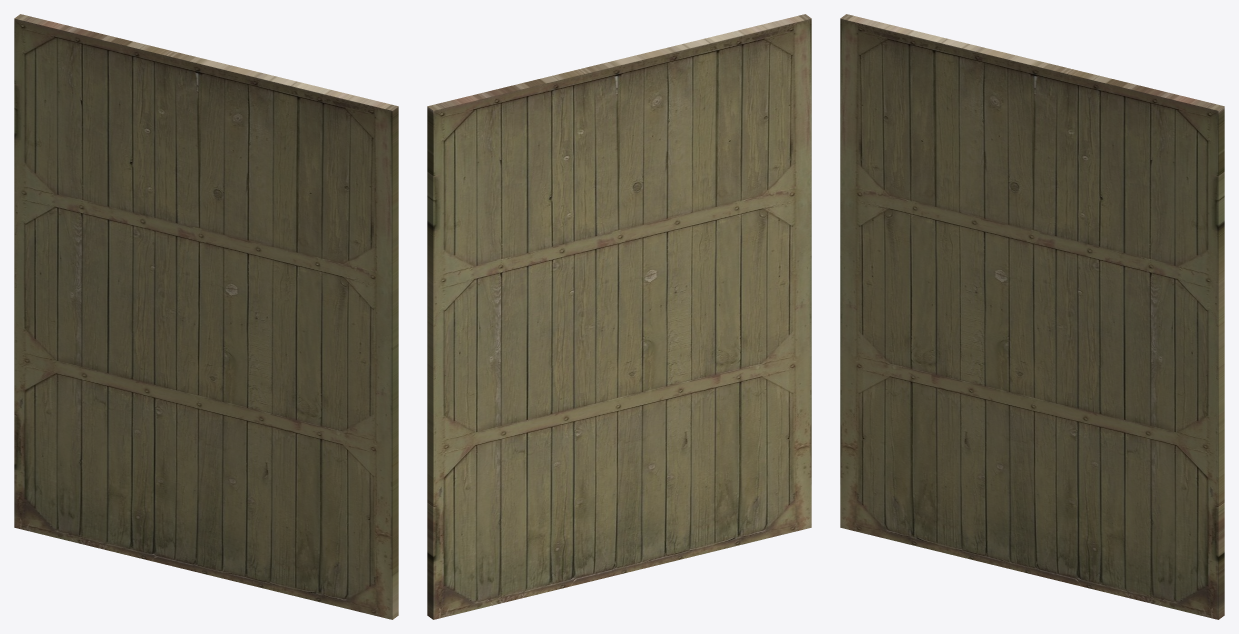
The picture shows the model from 3 angles, left to right: view 1: azimuth 90°, elevation 25°; view 2: azimuth 150°, elevation 25°; view 3: azimuth 270°, elevation 25°; orthographic projection.
Parts seen in each view (by area): view 1: Plane005_door_0; view 2: Plane005_door_0; view 3: Plane005_door_0.
Boxes of the visible parts, box(x1,y1,x2,y2) form: Plane005_door_0: box(14, 14, 398, 619); Plane005_door_0: box(427, 14, 811, 619); Plane005_door_0: box(840, 14, 1224, 619).
Size of the model in its own units: 1.47 by 3.6 by 2.46.
Materials: 1 (1 with a texture image).
